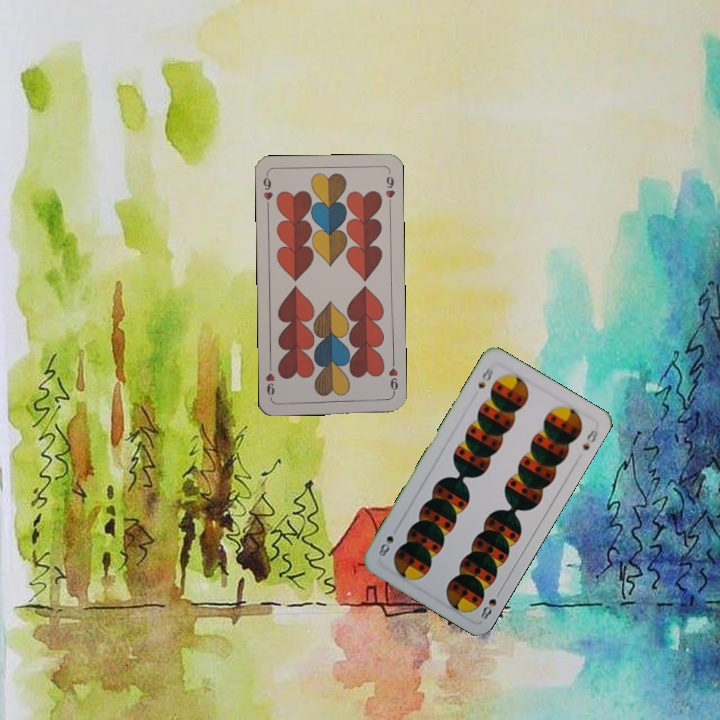H9: (385, 357, 401, 398), (259, 171, 275, 211)
S8: (476, 585, 504, 622), (474, 363, 496, 391)
